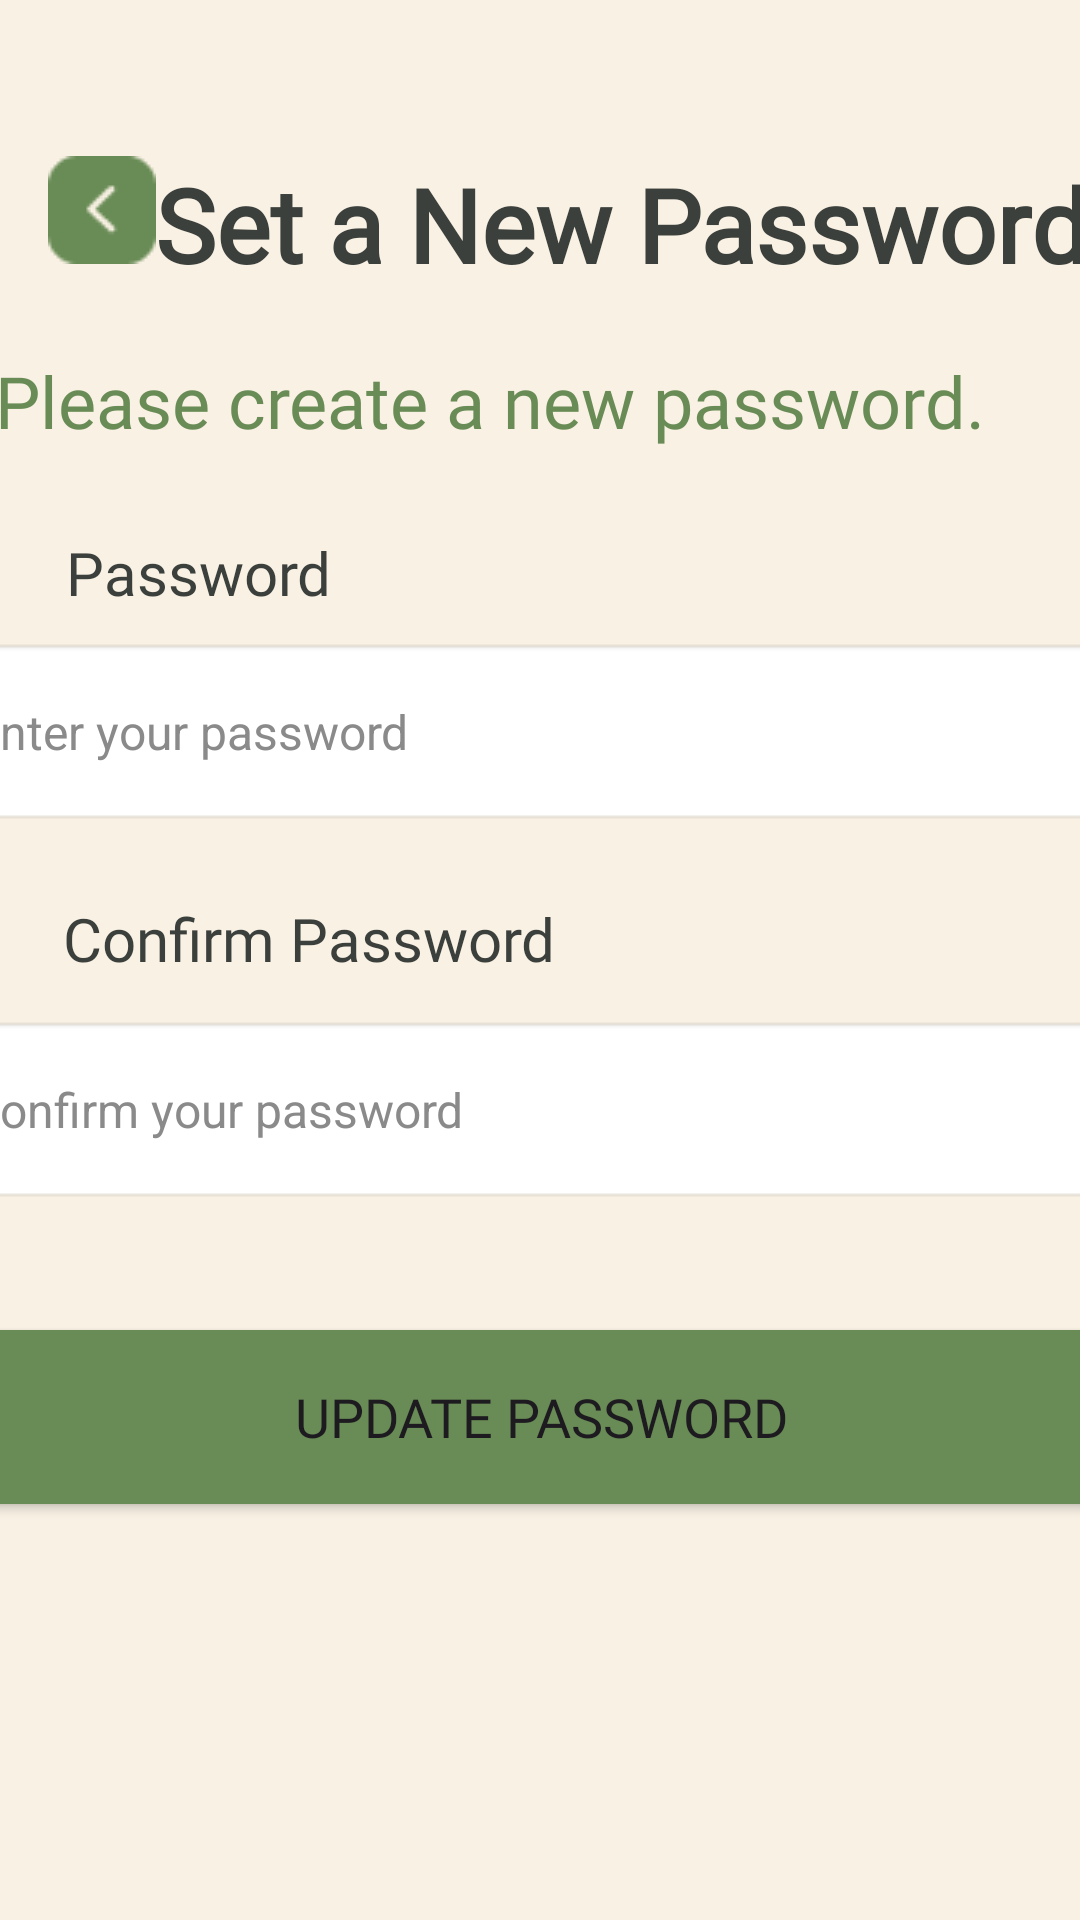

Icon bounding boxes for this 1080px x 1920px phone screenshot, format region(x1, y1, x2, y2):
Back Button: region(48, 156, 156, 264)
